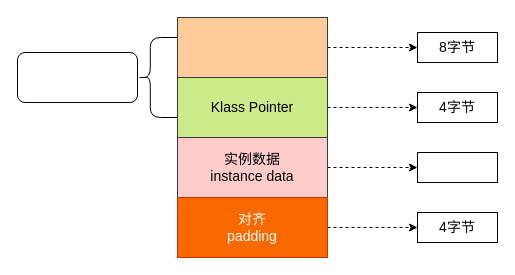
Image size: 515x275. Some labels were removed from this diagram. The shapes that lost their labels are listed below. From the top down, each one's centre as x and y in pixels, then its label:
pixel 252 47: Mark Word
pixel 77 77: object header 对象头
pixel 457 167: 0字节
